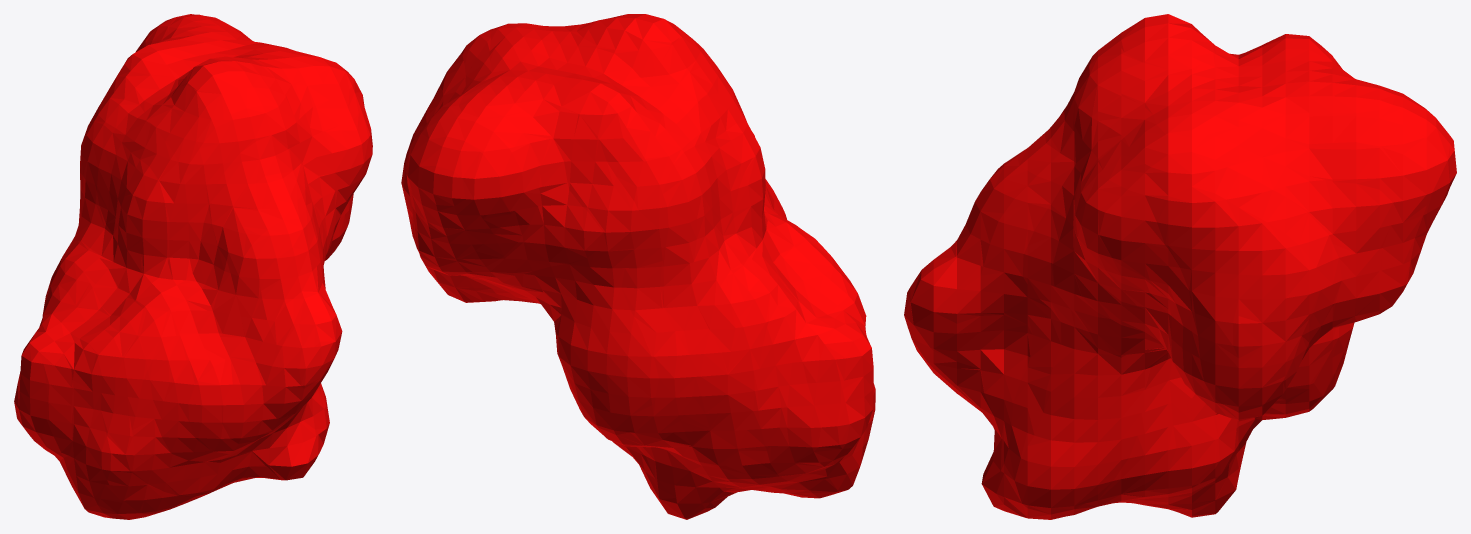
The model's file is cusR_coarse.dae.
3 views of the same model, side by side, from view 1: azimuth 30°, elevation 25°; view 2: azimuth 150°, elevation 25°; view 3: azimuth 270°, elevation 25° (orthographic). The views are drawn at different scales.
Visible parts, largest first — view 1: cusR; view 2: cusR; view 3: cusR.
Part boxes in pixels (box(x1,y1,x2,y2)): cusR: box(14, 14, 372, 519); cusR: box(401, 14, 875, 519); cusR: box(904, 14, 1456, 519).
Bounding box in the file's own units: 51.06 × 55.75 × 53.13.
